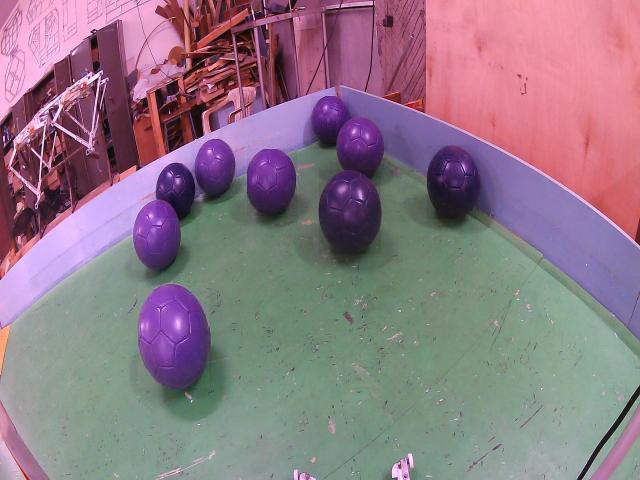jambhalya: (139, 284, 209, 388), (133, 200, 181, 270), (247, 150, 297, 216), (336, 117, 384, 178), (195, 140, 235, 196), (311, 97, 349, 144)
kaalyya: (319, 170, 381, 254), (427, 145, 479, 219), (156, 164, 195, 218)
